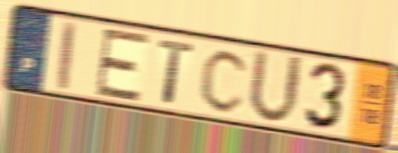3: (301, 61, 351, 133)
C: (198, 46, 252, 115)
E: (93, 27, 153, 104)
I: (56, 18, 78, 93)
T: (156, 36, 197, 107)
U: (245, 46, 305, 127)
